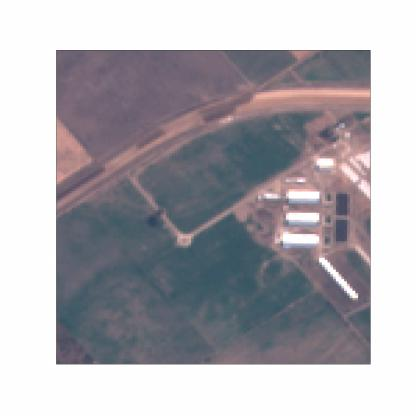silobolsa: (318, 256, 364, 304), (339, 152, 377, 200)
